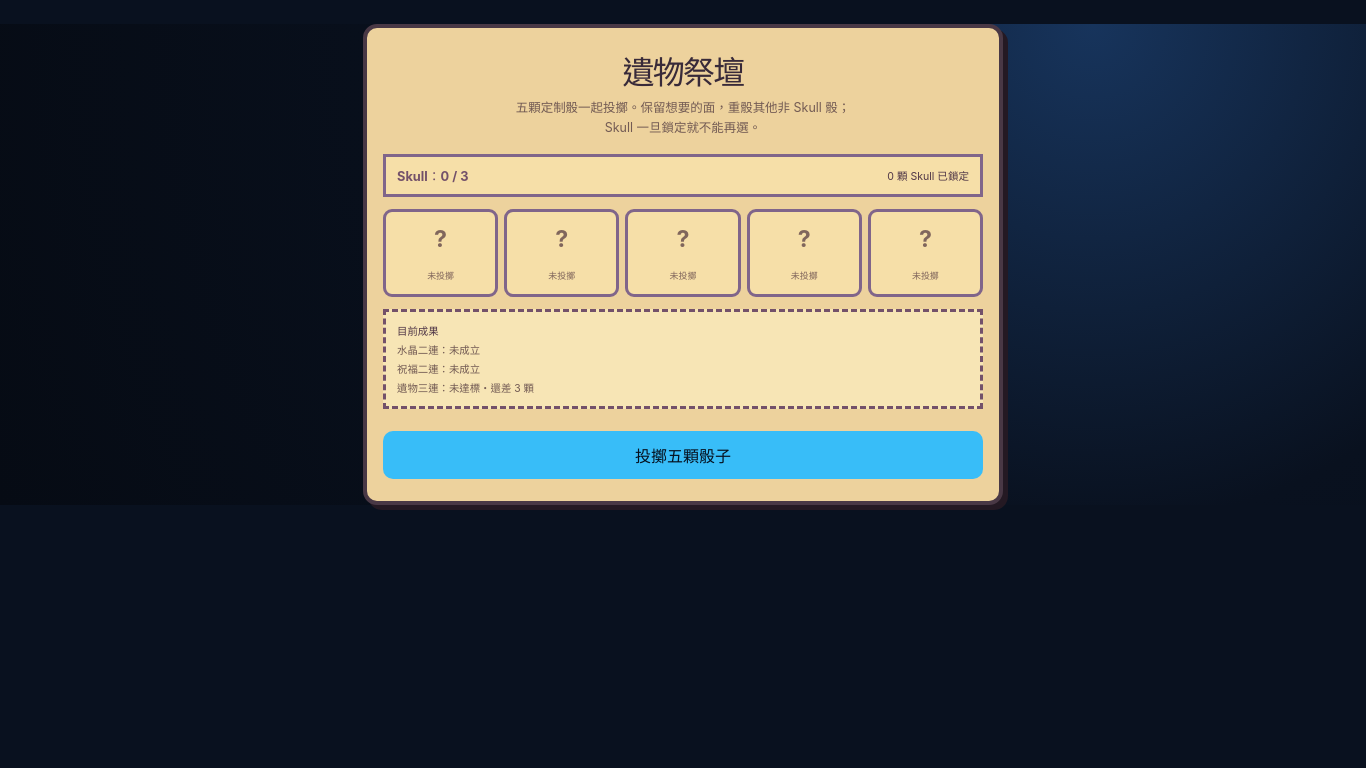
Scenario: RelicAltarView › shows five dice and the fixed Skull risk after the first roll
Click the button "投擲五顆骰子" at x=683, y=455, box [383, 431, 983, 479]
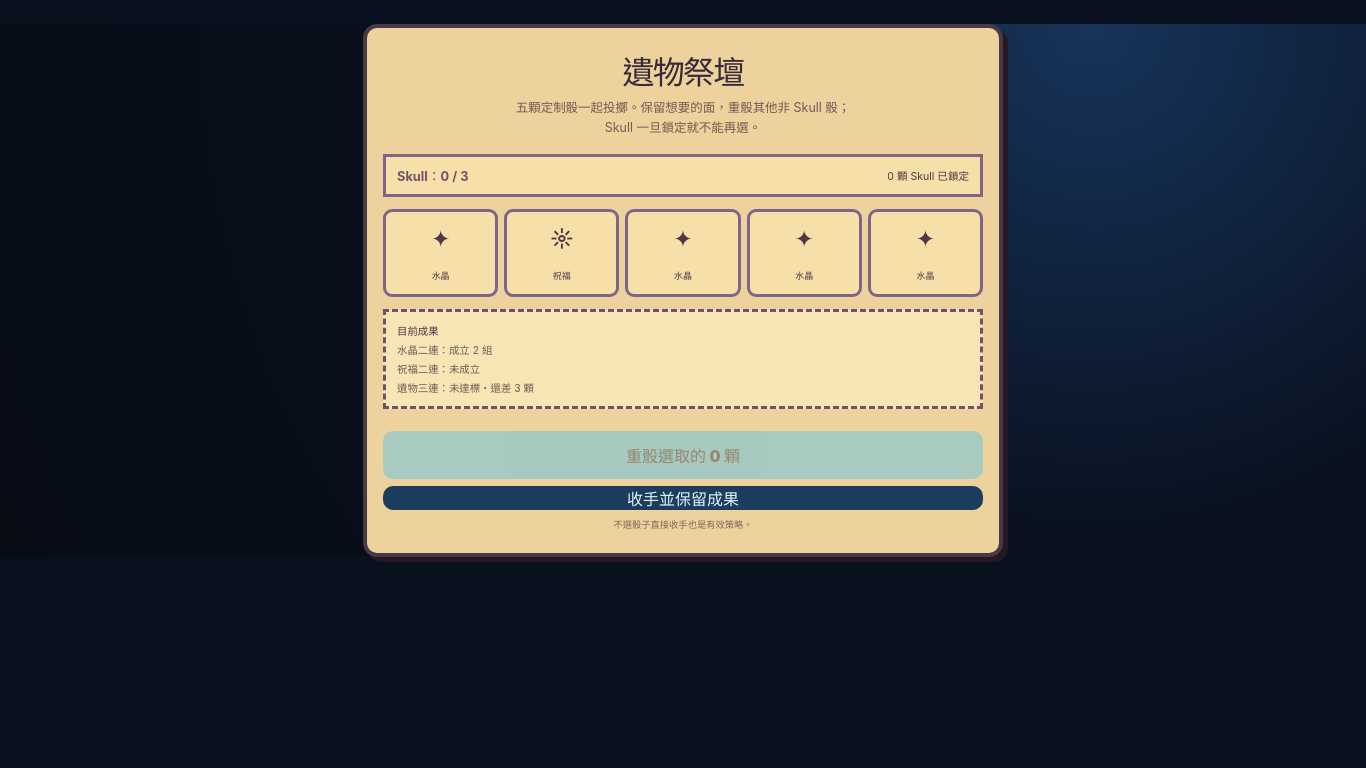
Expected: the message reads "Skull：0 / 3 0 顆 Skull 已鎖定", [383, 154, 983, 197]
Expected: the button "收手並保留成果" is shown, [383, 486, 983, 510]
